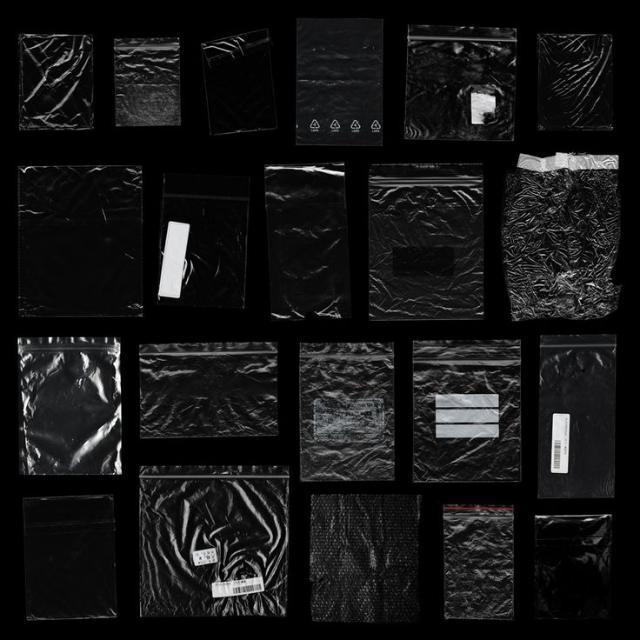Plastico descartable: (136, 463, 302, 627), (365, 168, 498, 334), (10, 160, 148, 310), (506, 162, 632, 325), (18, 328, 138, 488), (403, 333, 522, 492), (303, 494, 430, 634), (262, 158, 365, 330), (530, 328, 628, 507), (136, 345, 292, 453), (296, 335, 402, 493), (400, 18, 517, 155), (146, 194, 266, 324), (22, 488, 130, 627), (528, 13, 632, 152), (292, 22, 392, 160), (526, 508, 616, 635), (433, 498, 520, 628), (188, 37, 292, 140), (18, 36, 110, 136), (110, 40, 190, 137)
